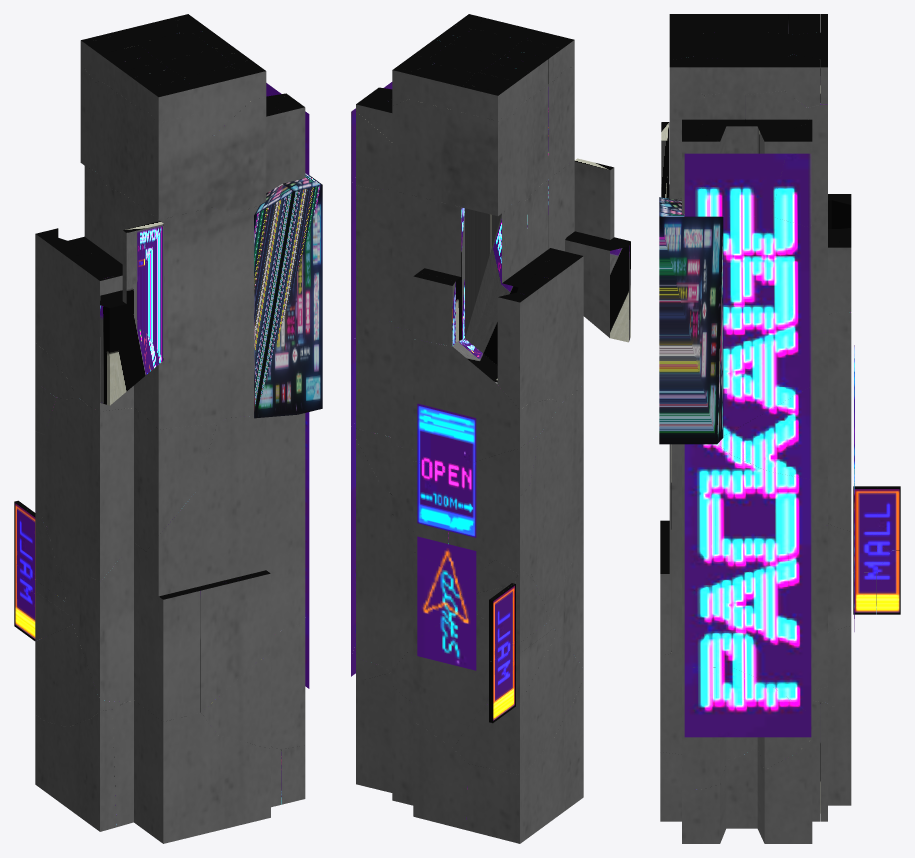
Rendered from shellyGebouw1.0_ Broken.fbx.
3 views of the same model, side by side, from view 1: azimuth 30°, elevation 25°; view 2: azimuth 150°, elevation 25°; view 3: azimuth 270°, elevation 25° (orthographic). The views are drawn at different scales.
Parts seen in each view (by area): view 1: Cube.001_cell.013, Cube.001_cell.029, Cube.001_cell.033, Cube.001_cell.055, Cube.001_cell.072, Cube.001_cell.078, Cube.001_cell.060, Cube.001_cell.093, Cube.001_cell.023, Cube.001_cell.086, Cube.001_cell.030, Cube.001_cell.091 (+50 smaller); view 2: Cube.001_cell.089, Cube.001_cell.045, Cube.001_cell.056, Cube.001_cell.072, Cube.001_cell.057, Cube.001_cell.019, Cube.001_cell.053, Cube.001_cell.026, Cube.001_cell.032, Cube.001_cell.003, Cube.001_cell.036, Cube.001_cell.070 (+57 smaller); view 3: Cube.001_cell.101, Cube.001_cell.013, Cube.001_cell.111, Cube.001_cell.110, Cube.001_cell.100, Cube.001_cell.115, Cube.001_cell.060, Cube.001_cell.123, Cube.001_cell.089, Cube.001_cell.020, Cube.001_cell.113, Cube.001_cell.056 (+46 smaller).
Part boxes in pixels (x1=…): Cube.001_cell.013: x1=254, y1=173, x2=322, y2=418; Cube.001_cell.029: x1=143, y1=207, x2=228, y2=429; Cube.001_cell.033: x1=98, y1=408, x2=216, y2=581; Cube.001_cell.055: x1=65, y1=543, x2=146, y2=708; Cube.001_cell.072: x1=100, y1=221, x2=163, y2=405; Cube.001_cell.078: x1=196, y1=416, x2=251, y2=588; Cube.001_cell.060: x1=201, y1=623, x2=305, y2=749; Cube.001_cell.093: x1=161, y1=712, x2=217, y2=843; Cube.001_cell.023: x1=213, y1=97, x2=282, y2=215; Cube.001_cell.086: x1=199, y1=576, x2=254, y2=712; Cube.001_cell.030: x1=146, y1=492, x2=197, y2=719; Cube.001_cell.091: x1=155, y1=114, x2=212, y2=219; Cube.001_cell.089: x1=356, y1=321, x2=560, y2=461; Cube.001_cell.045: x1=453, y1=634, x2=583, y2=774; Cube.001_cell.056: x1=388, y1=188, x2=464, y2=341; Cube.001_cell.072: x1=565, y1=158, x2=630, y2=342; Cube.001_cell.057: x1=465, y1=200, x2=534, y2=365; Cube.001_cell.019: x1=392, y1=614, x2=553, y2=747; Cube.001_cell.053: x1=392, y1=99, x2=461, y2=206; Cube.001_cell.026: x1=448, y1=434, x2=540, y2=573; Cube.001_cell.032: x1=461, y1=112, x2=513, y2=215; Cube.001_cell.003: x1=526, y1=200, x2=583, y2=402; Cube.001_cell.036: x1=356, y1=439, x2=379, y2=664; Cube.001_cell.070: x1=413, y1=721, x2=467, y2=830; Cube.001_cell.101: x1=723, y1=216, x2=811, y2=436; Cube.001_cell.013: x1=659, y1=197, x2=723, y2=444; Cube.001_cell.111: x1=684, y1=444, x2=731, y2=667; Cube.001_cell.110: x1=768, y1=471, x2=811, y2=714; Cube.001_cell.100: x1=731, y1=455, x2=768, y2=682; Cube.001_cell.115: x1=684, y1=667, x2=811, y2=737; Cube.001_cell.060: x1=660, y1=652, x2=812, y2=789; Cube.001_cell.123: x1=717, y1=386, x2=811, y2=479; Cube.001_cell.089: x1=802, y1=312, x2=851, y2=476; Cube.001_cell.020: x1=742, y1=747, x2=797, y2=843; Cube.001_cell.113: x1=723, y1=153, x2=786, y2=216; Cube.001_cell.056: x1=812, y1=191, x2=839, y2=334.
Size of the model in its own units: 1063 by 3504 by 1015.
